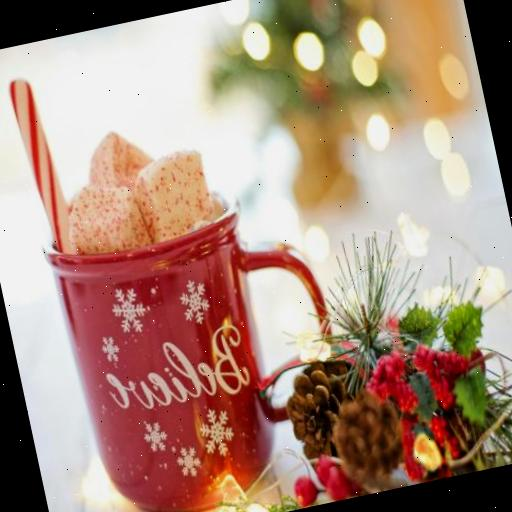cup: (35, 169, 363, 512)
